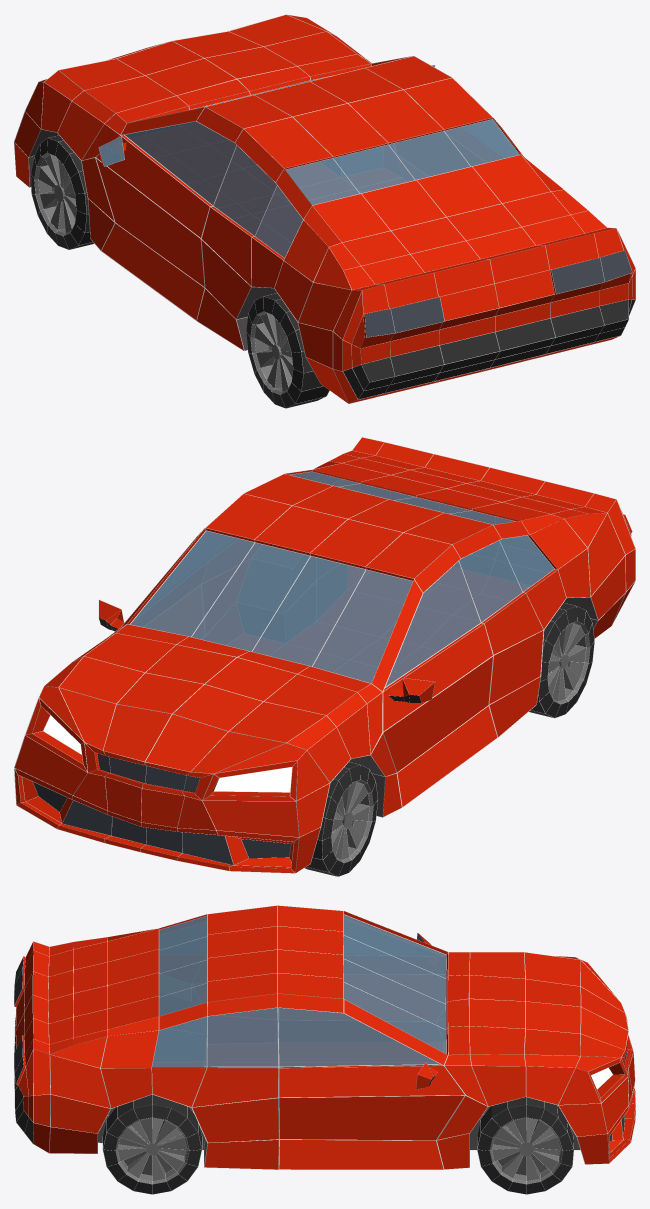
File: sports.glb
3 renders of one model, top to bottom at view 1: azimuth 30°, elevation 25°; view 2: azimuth 150°, elevation 25°; view 3: azimuth 270°, elevation 25°, orthographic. The views are drawn at different scales.
Visible parts, largest first — view 1: Cube_2; view 2: Cube_2; view 3: Cube_2.
Boxes of the visible parts, x1=… form: Cube_2: x1=14, y1=14, x2=635, y2=408; Cube_2: x1=14, y1=437, x2=635, y2=876; Cube_2: x1=14, y1=905, x2=635, y2=1194.
Size of the model in its own units: 0.232 by 0.1402 by 0.4296.
